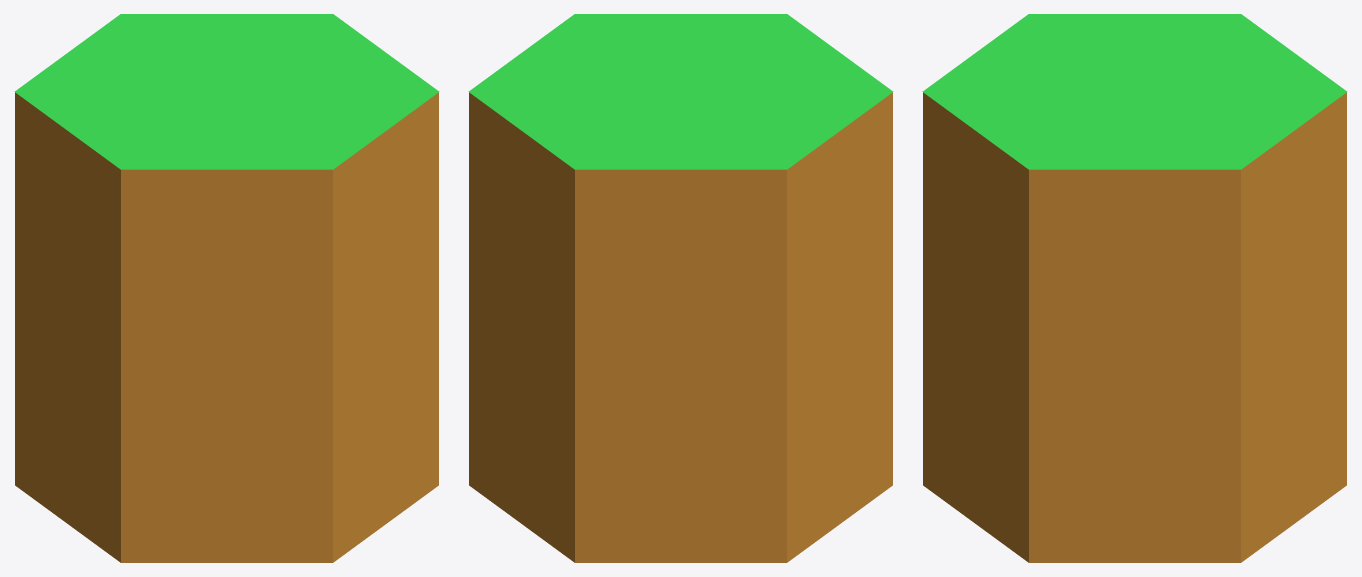
The model's file is Hex.fbx.
3 renders of one model, left to right at view 1: azimuth 30°, elevation 25°; view 2: azimuth 150°, elevation 25°; view 3: azimuth 270°, elevation 25°, orthographic.
Parts seen in each view (by area): view 1: Cylinder; view 2: Cylinder; view 3: Cylinder.
Boxes of the visible parts, x1,y1,x2,y2 form: Cylinder: [14, 14, 439, 562]; Cylinder: [468, 14, 893, 562]; Cylinder: [922, 14, 1347, 562].
Bounding box in the file's own units: 174 × 205 × 201.
